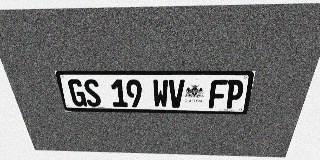1: (110, 79, 128, 107)
9: (125, 79, 143, 107)
F: (208, 80, 228, 108)
G: (67, 79, 87, 107)
P: (224, 80, 245, 109)
S: (82, 79, 102, 107)
V: (169, 80, 185, 108)
W: (152, 79, 168, 108)
